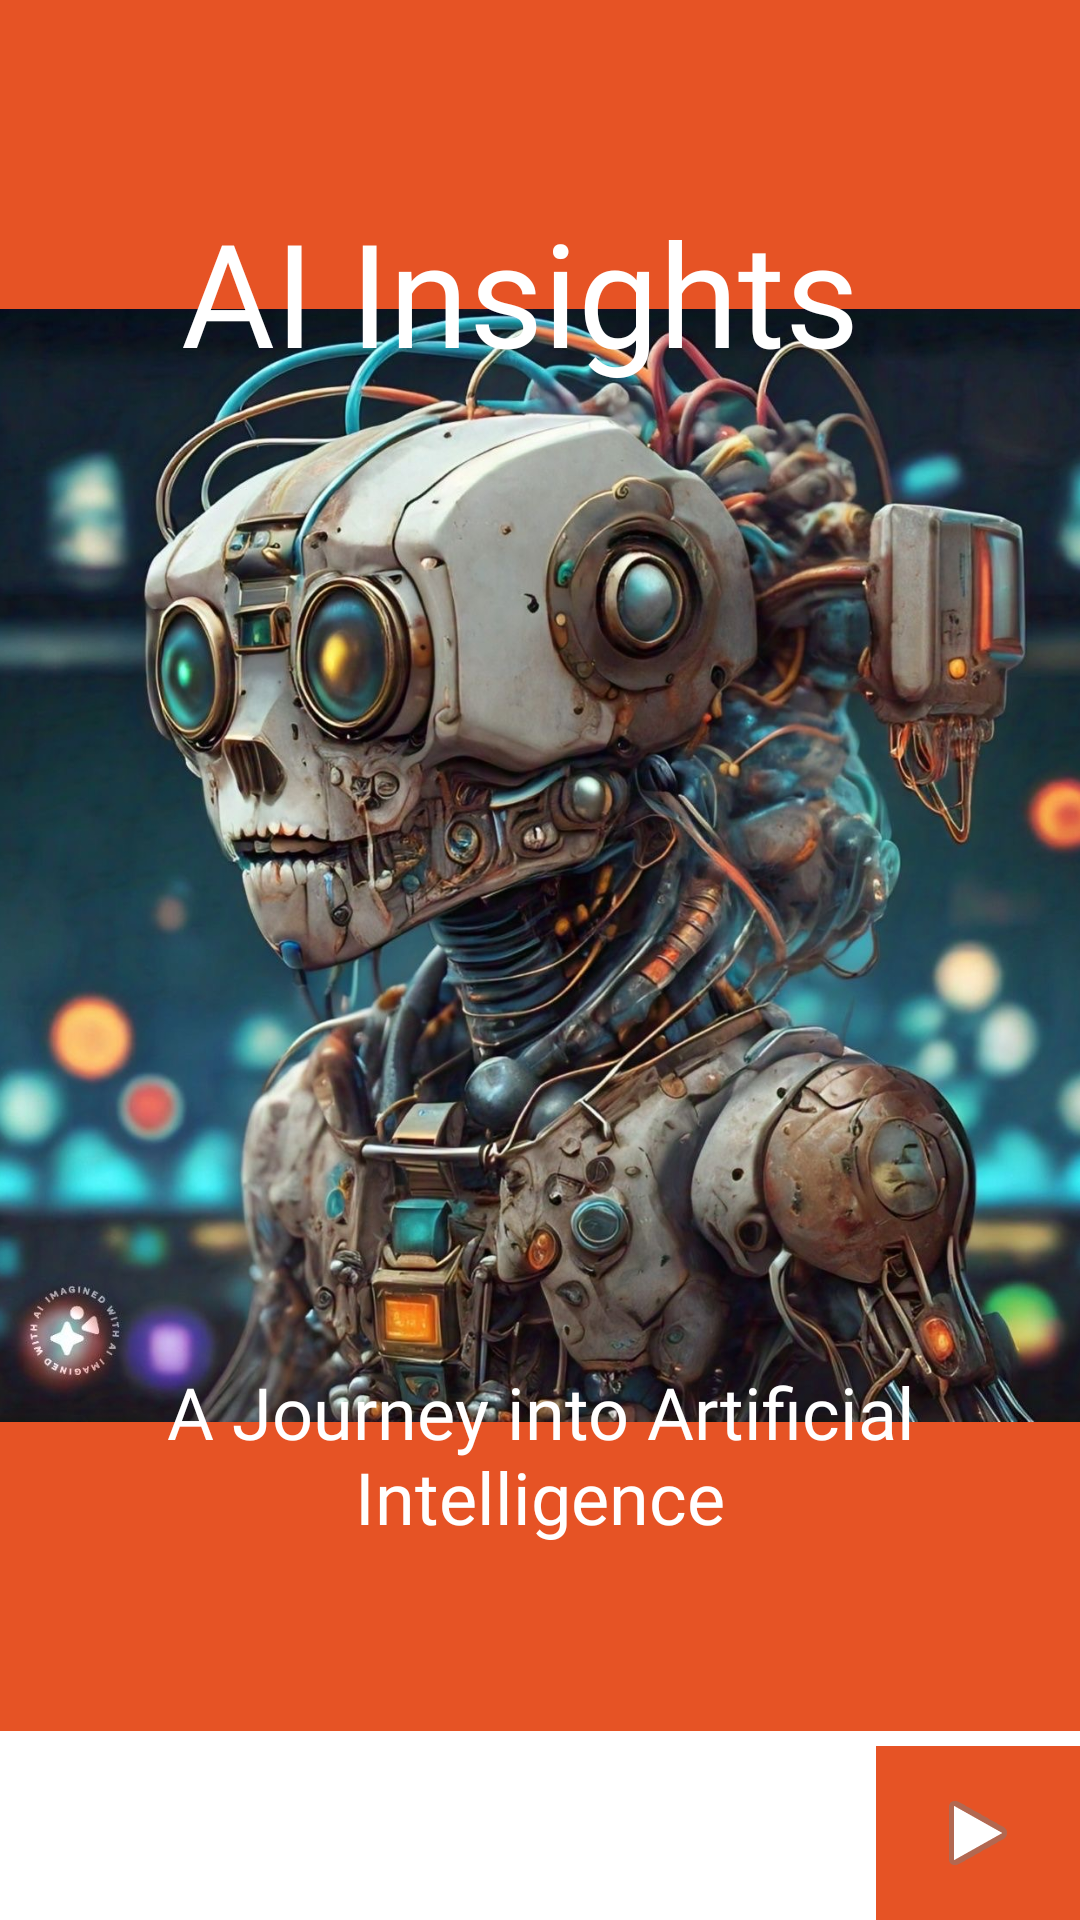

Where to tap for icons on this 1080px x 1920px app screen, as (x,y):
Next Button: (978,1833)
